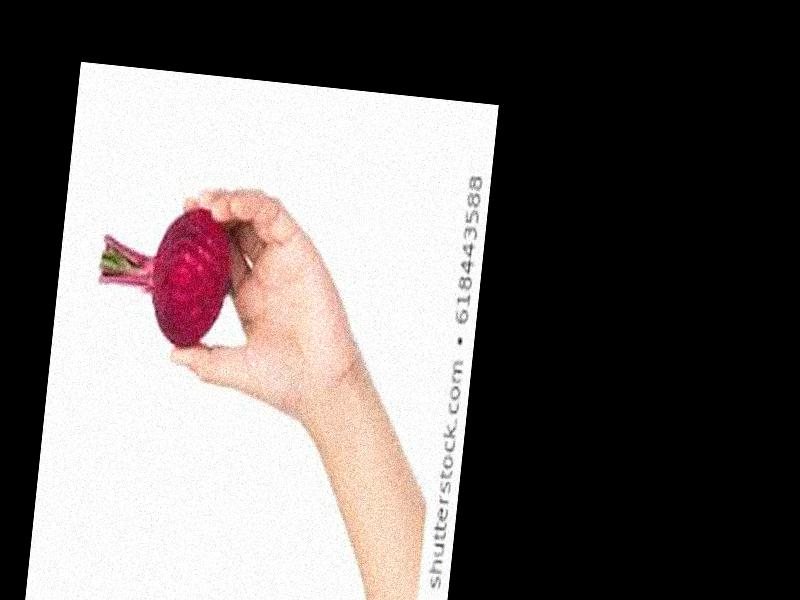Beet: (92, 195, 234, 350)
